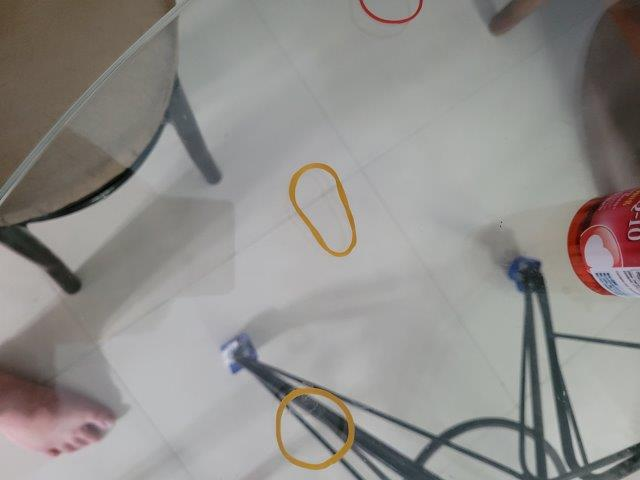karet: (278, 384, 354, 469), (290, 163, 356, 259)
